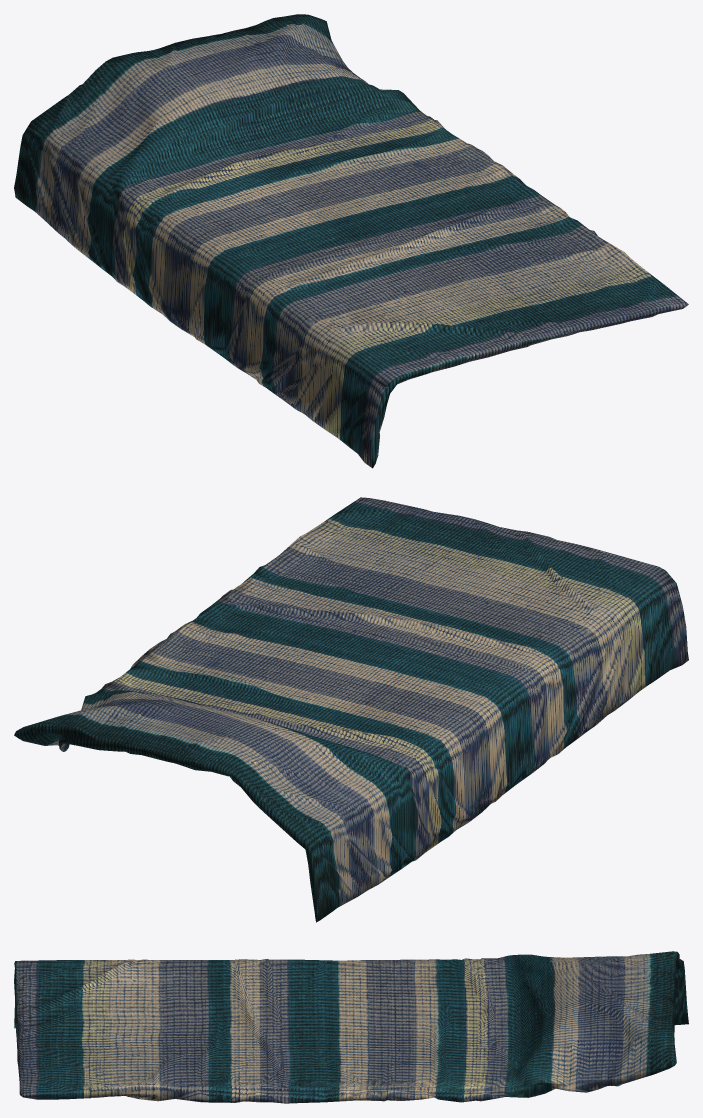
File: Blanket.FBX
The picture shows the model from 3 angles, top to bottom: view 1: azimuth 30°, elevation 25°; view 2: azimuth 150°, elevation 25°; view 3: azimuth 270°, elevation 25°; orthographic projection. The views are drawn at different scales.
Visible parts, largest first — view 1: blanket; view 2: blanket; view 3: blanket.
Part boxes in pixels (left/top/right/bottom): blanket: left=14, top=14, right=688, bottom=468; blanket: left=14, top=497, right=688, bottom=922; blanket: left=14, top=951, right=688, bottom=1103.
Size of the model in its own units: 103 by 44.55 by 200.
Materials: 1 (1 with a texture image).
